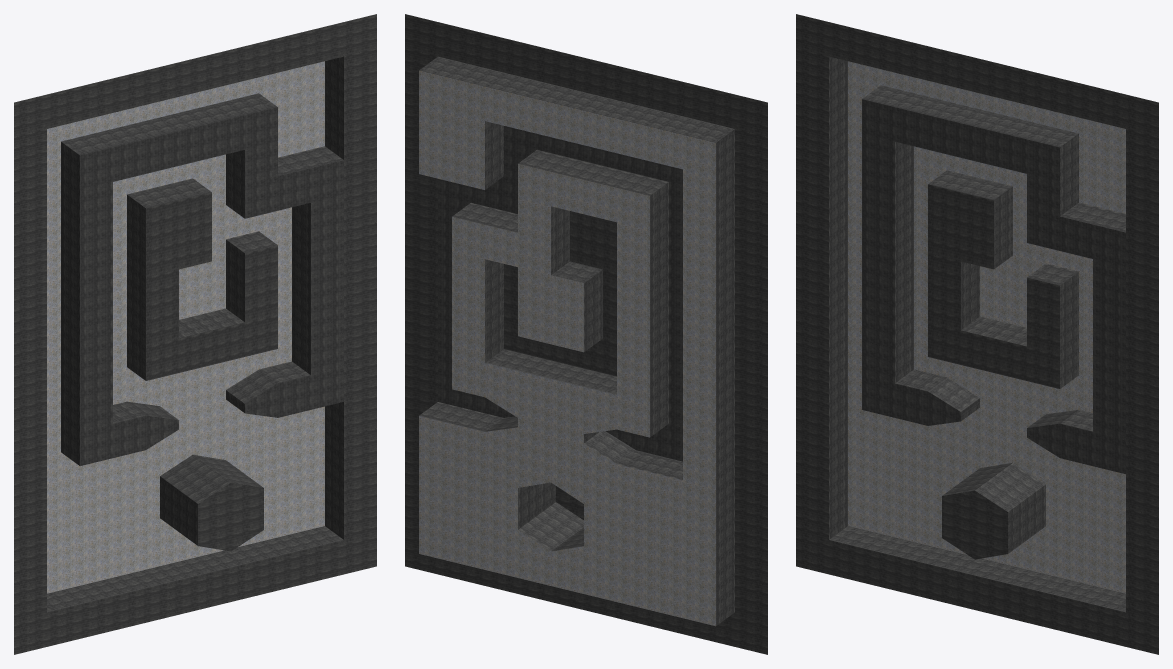
File: stage.glb
3 views of the same model, side by side, from view 1: azimuth 30°, elevation 25°; view 2: azimuth 150°, elevation 25°; view 3: azimuth 330°, elevation 25° (orthographic).
Parts seen in each view (by area): view 1: levelMesh; view 2: levelMesh; view 3: levelMesh.
Boxes of the visible parts, x1,y1,x2,y2 form: levelMesh: (14,14,376,654); levelMesh: (405,14,767,654); levelMesh: (796,14,1158,654).
Size of the model in its own units: 220 by 320 by 40.
2 materials, 2 textured.
